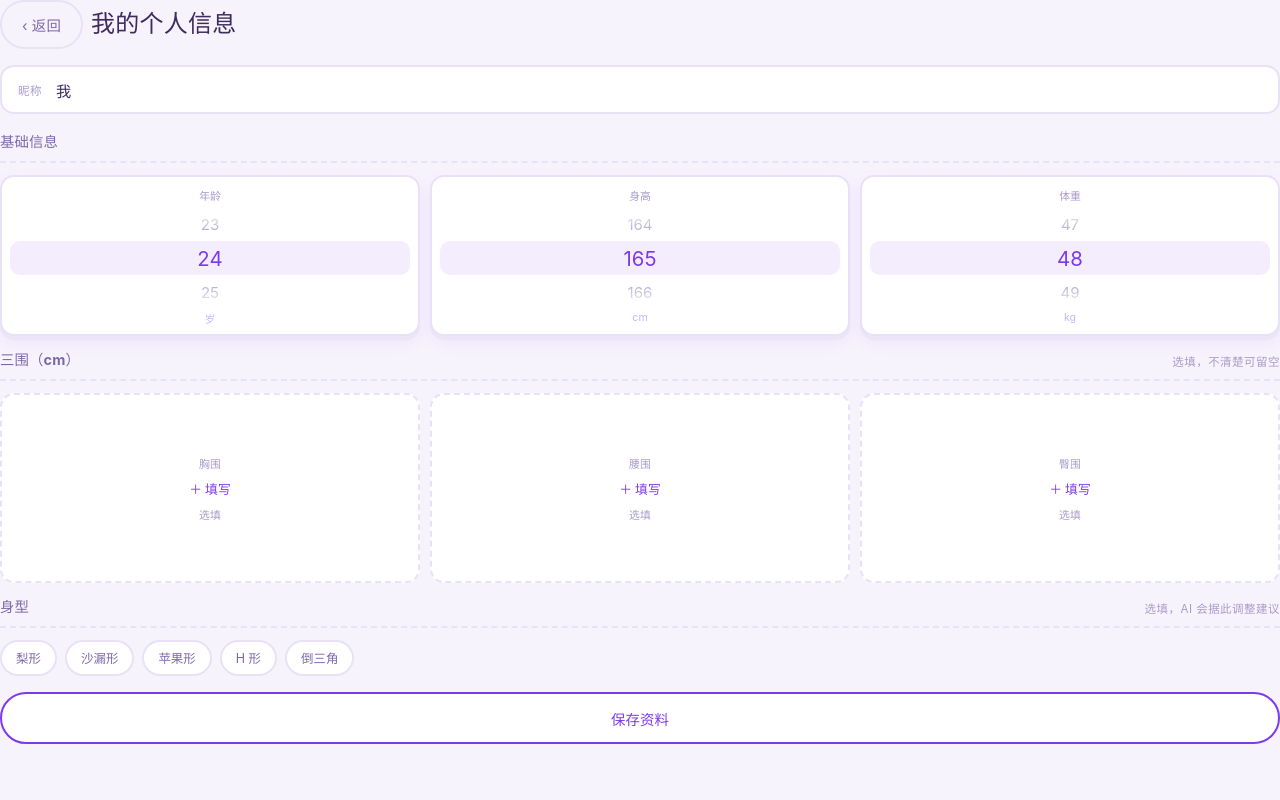
Test: body profile sheet › refuses an empty nickname rather than saving a blank profile
(page scrolled)
Clear the field named "昵称" at (658,90), box [54, 79, 1262, 100]
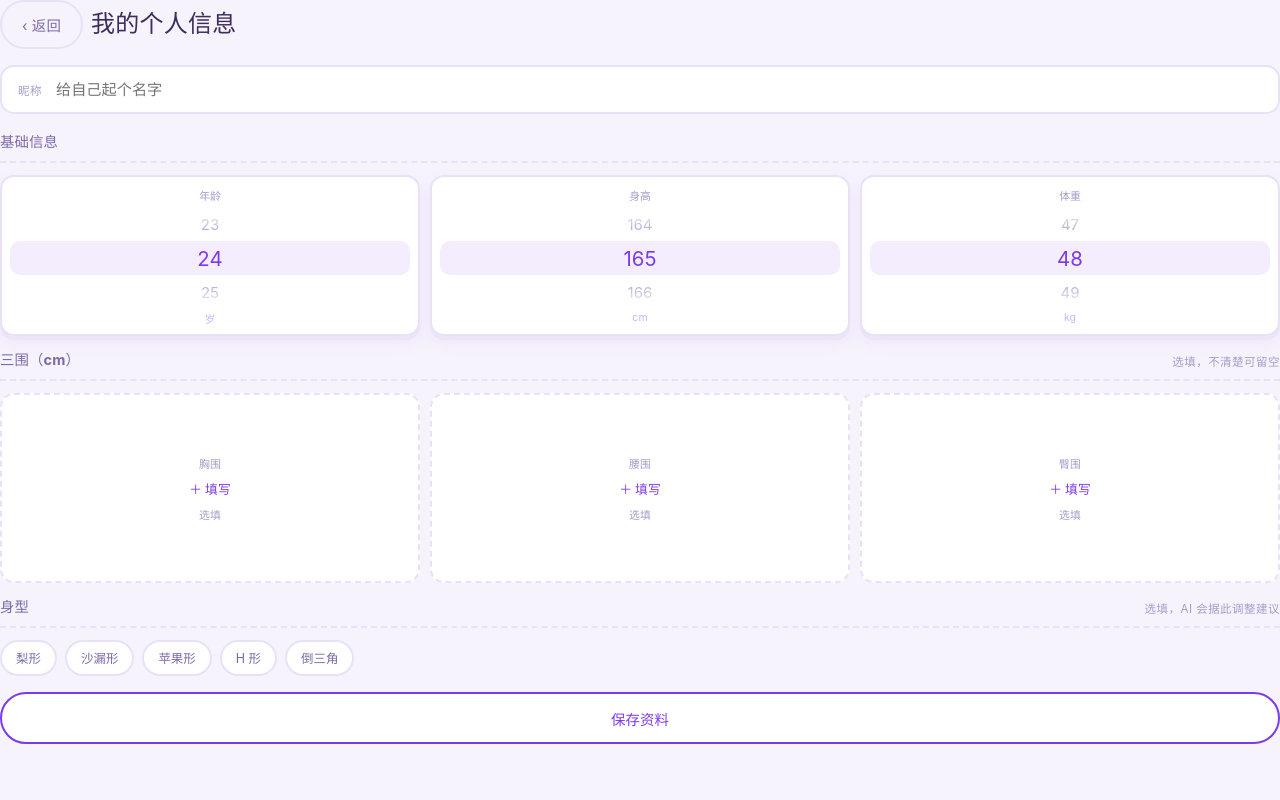
Click the button "保存资料" at (640,718), box [0, 692, 1279, 744]
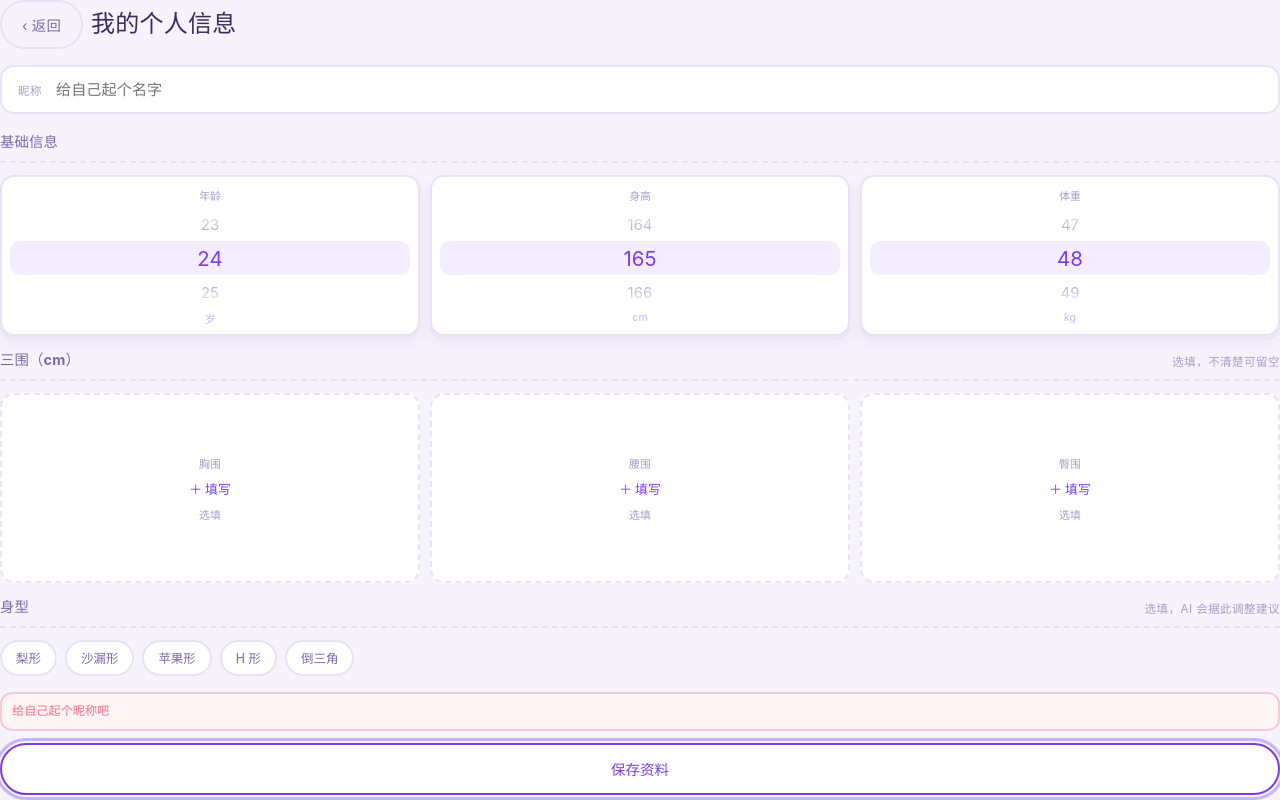
Check: the message reads "给自己起个昵称吧", box [12, 703, 109, 718]
